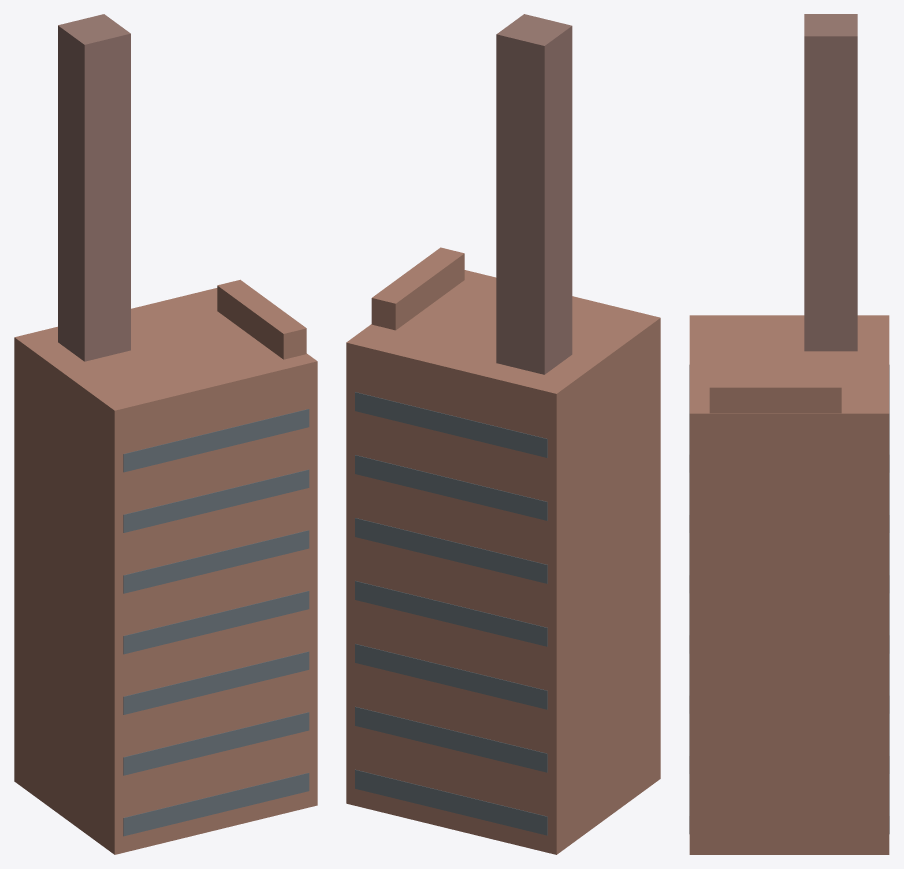
File: ew-boiler-tower.works-v1.lod2.glb
3 renders of one model, left to right at view 1: azimuth 30°, elevation 25°; view 2: azimuth 150°, elevation 25°; view 3: azimuth 270°, elevation 25°, orthographic. The views are drawn at different scales.
Parts seen in each view (by area): view 1: ew-boiler-tower; view 2: ew-boiler-tower; view 3: ew-boiler-tower.
Part boxes in pixels (<box>): ew-boiler-tower: <box>14,14,317,854</box>; ew-boiler-tower: <box>346,14,660,854</box>; ew-boiler-tower: <box>689,14,889,854</box>.
Size of the model in its own units: 14 by 50.2 by 12.06.
